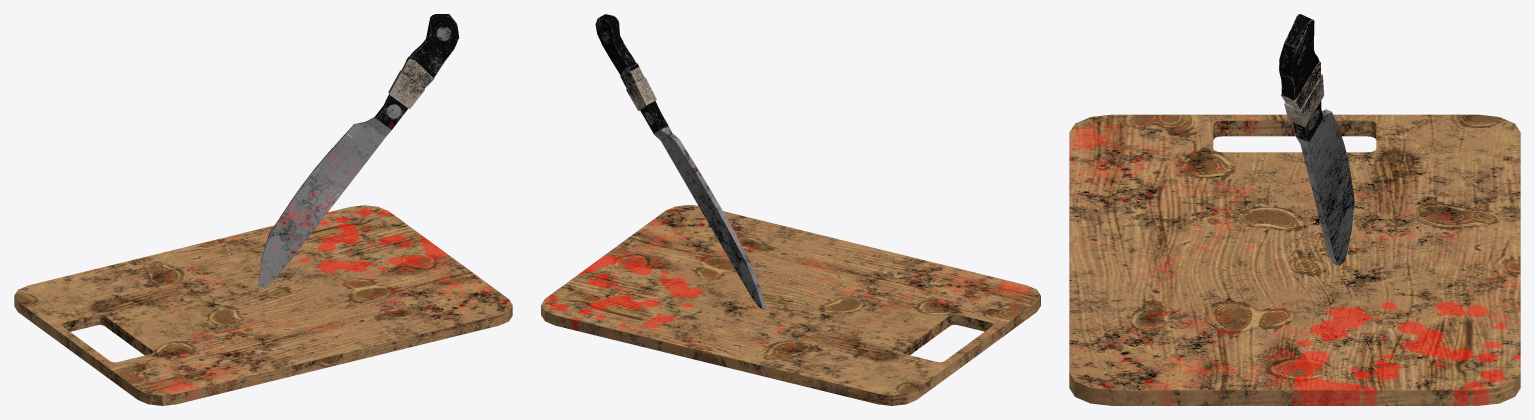
Rendered from knife and board.fbx.
3 views of the same model, side by side, from view 1: azimuth 30°, elevation 25°; view 2: azimuth 150°, elevation 25°; view 3: azimuth 270°, elevation 25° (orthographic). The views are drawn at different scales.
Parts seen in each view (by area): view 1: Plane.001; view 2: Plane.001; view 3: Plane.001.
Boxes of the visible parts, box(x1,y1,x2,y2) form: Plane.001: box(14, 14, 512, 405); Plane.001: box(541, 14, 1040, 405); Plane.001: box(1069, 14, 1520, 405).
Bounding box in the file's own units: 3537 × 2239 × 2392.
1 material, 1 textured.
